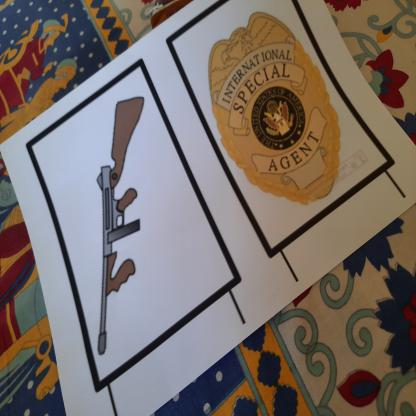Bootlegger: (85, 89, 151, 360)
G-man: (202, 4, 371, 241)
